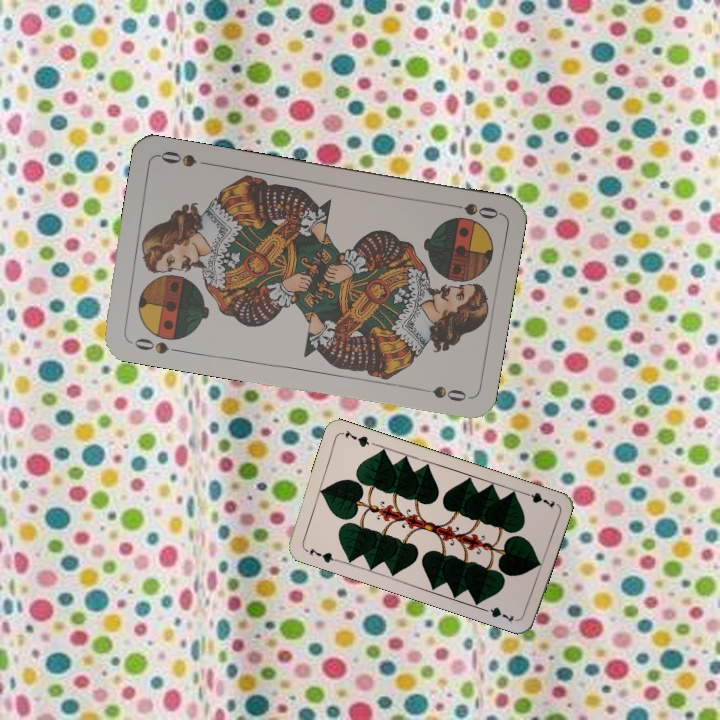G7: (518, 488, 558, 511), (301, 543, 340, 565)
SO: (442, 199, 501, 222), (125, 334, 184, 357)
